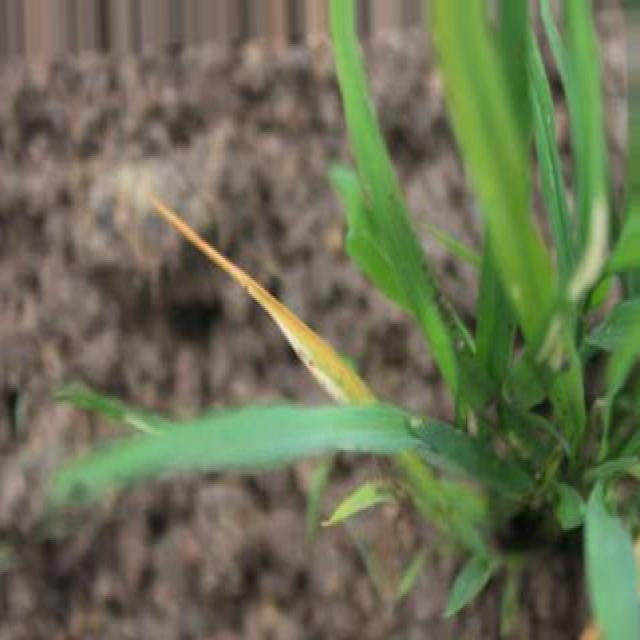Rice Tungro: (151, 197, 376, 404)
